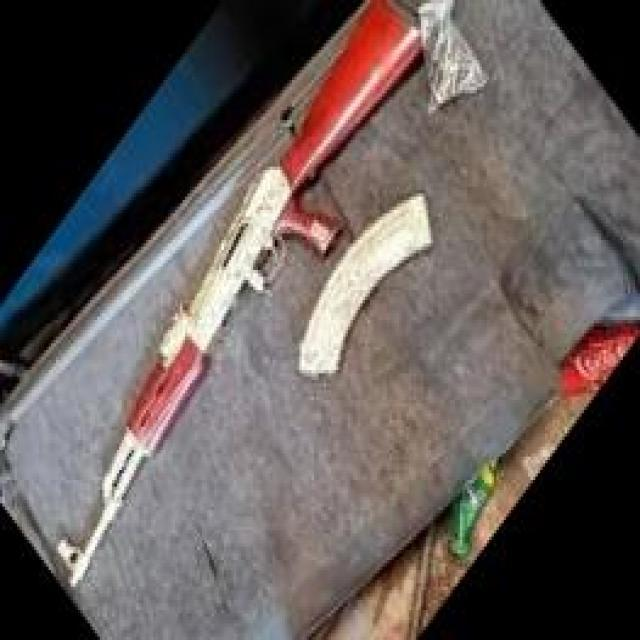weapon: (54, 0, 440, 590)
